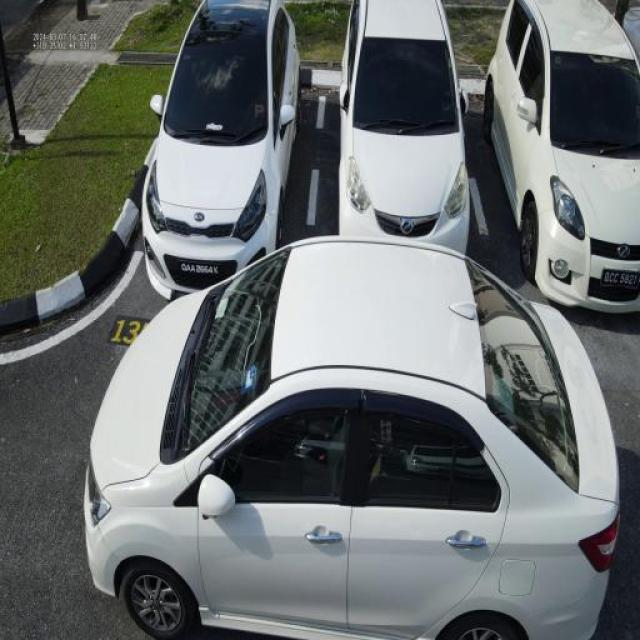Legalparking: (74, 0, 640, 368)
illegalparking: (21, 249, 640, 640)
